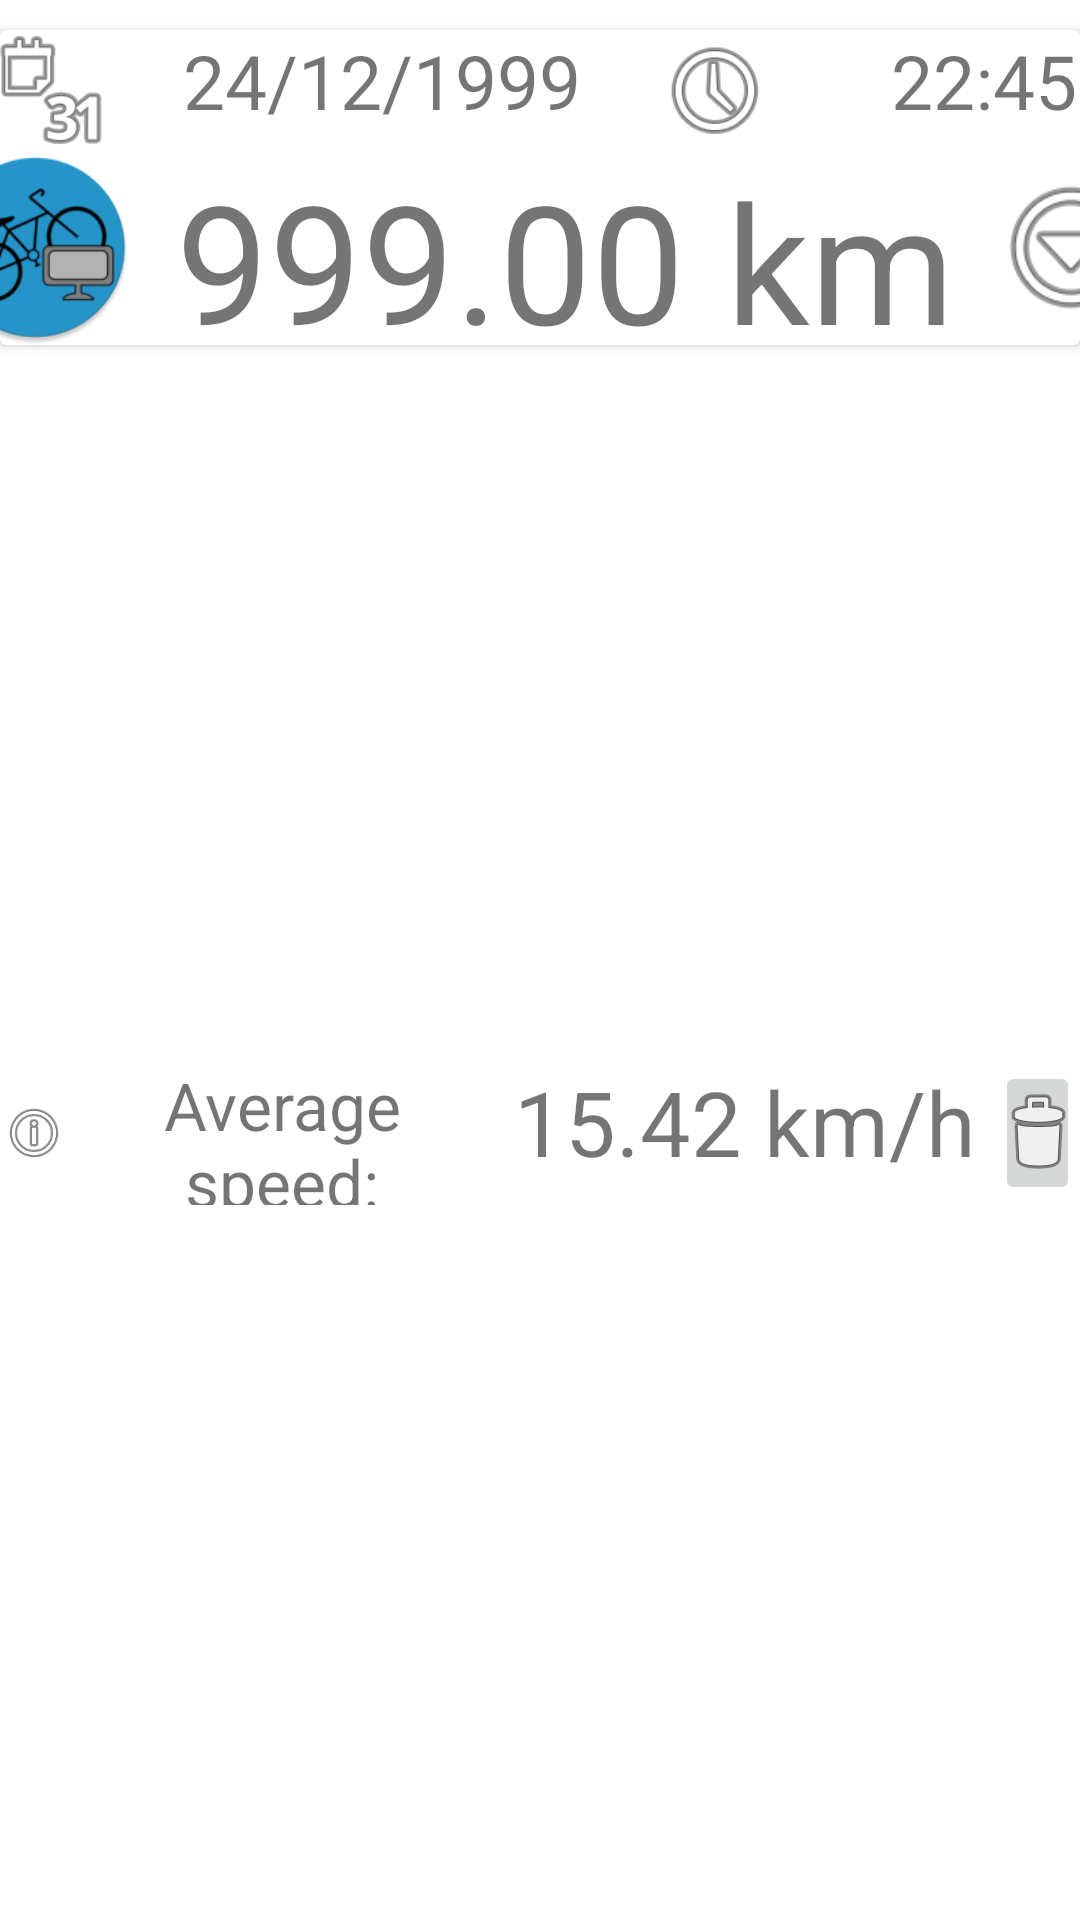

Named icons in this screenshot (1080*1920) and their centers, (x,y):
info details: (34,1133)
recent history: (714,90)
remove trip: (1037,1133)
